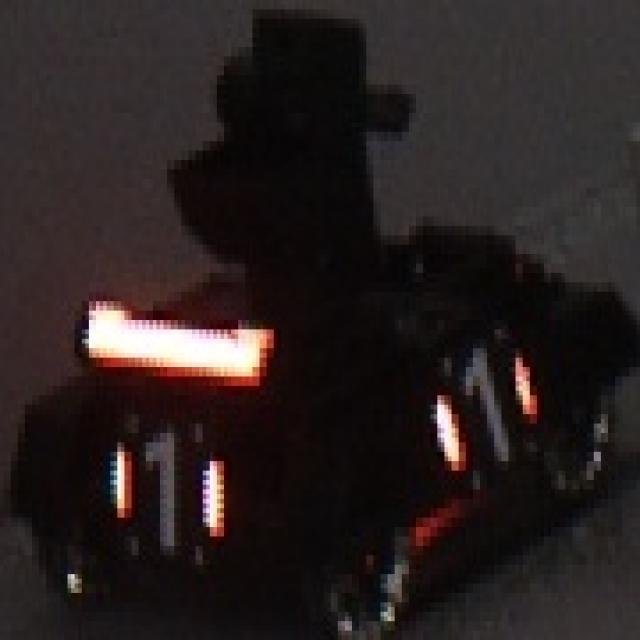R1: (106, 428, 228, 551), (430, 343, 540, 466)
